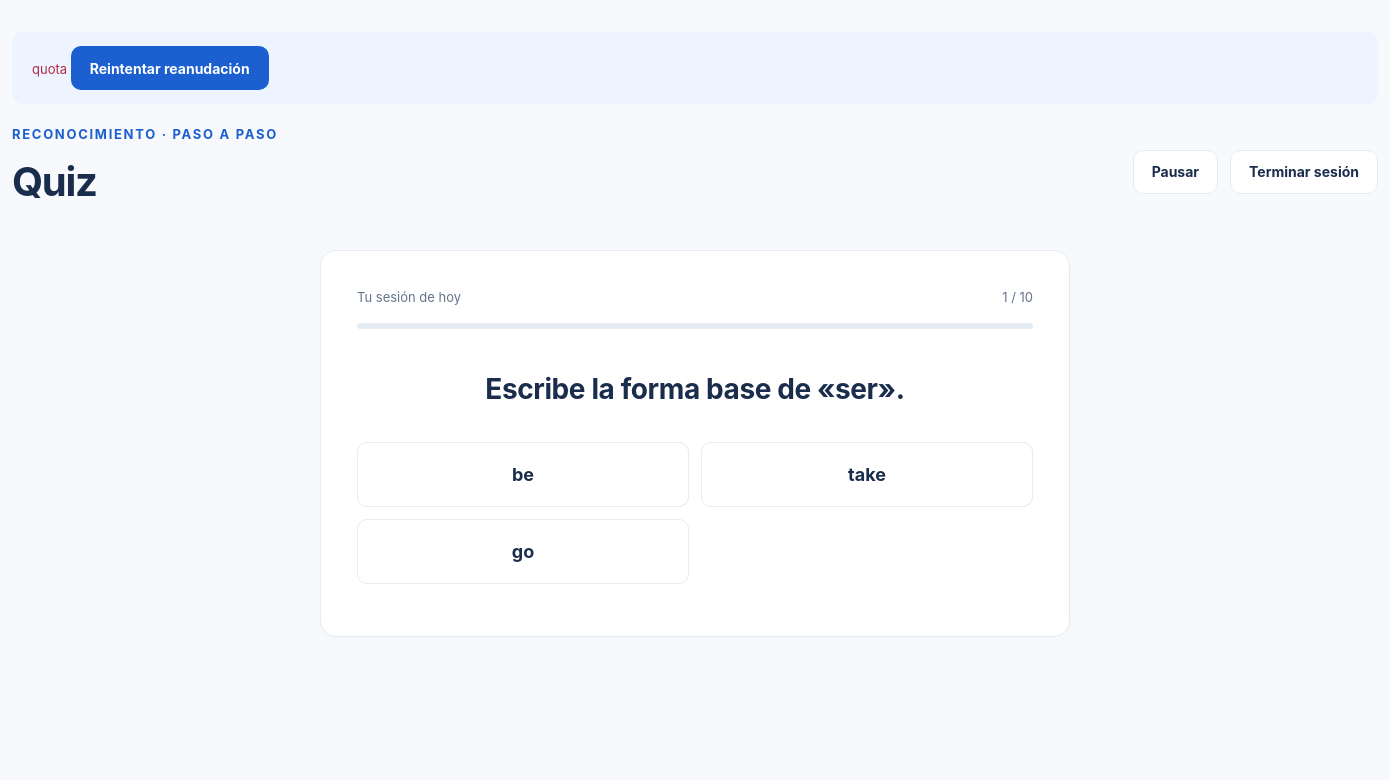
resume failures are visible above the active session with an explicit retry
Expected: the message shows "quota", [32,60,67,76]
Click the button "Reintentar reanudación". click: (170, 68)
box: [71,46,269,90]
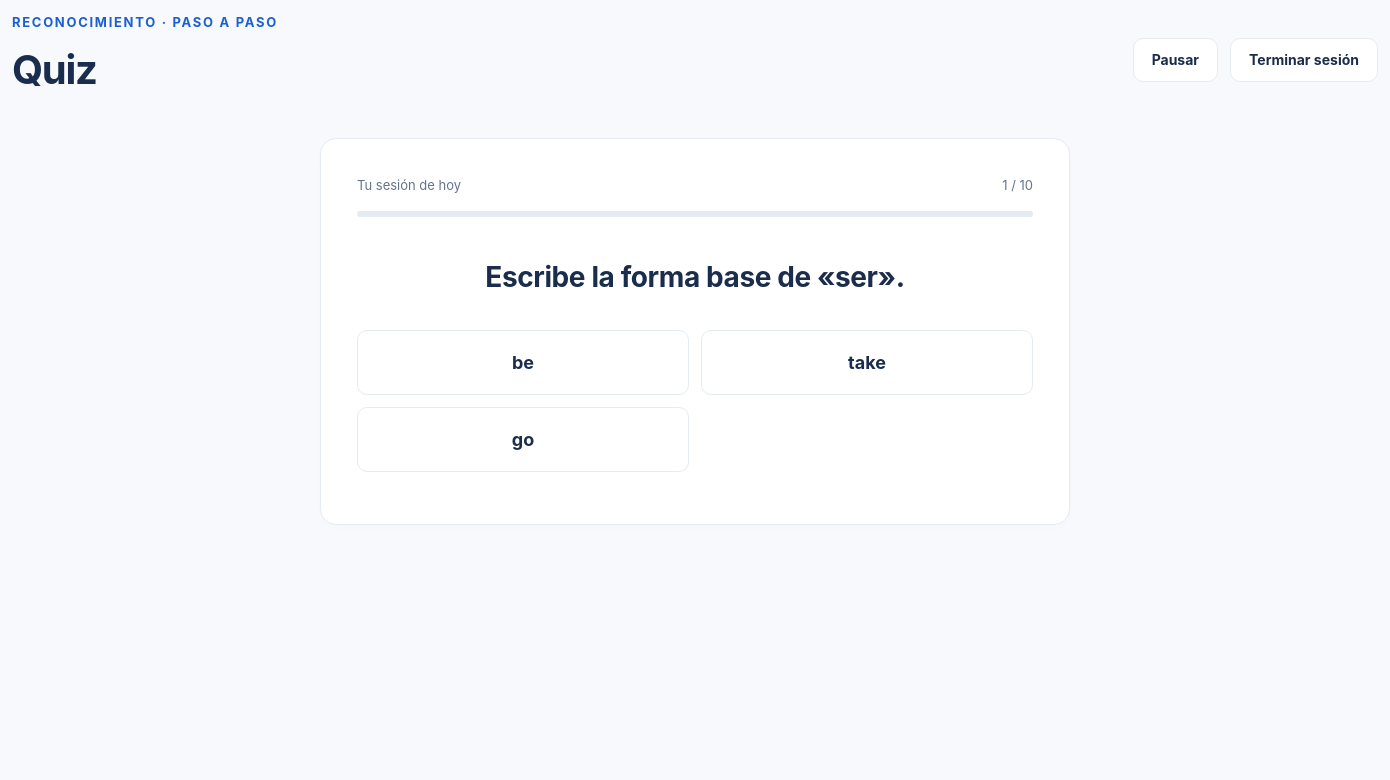
Now the message "quota Reintentar reanudación" is gone
